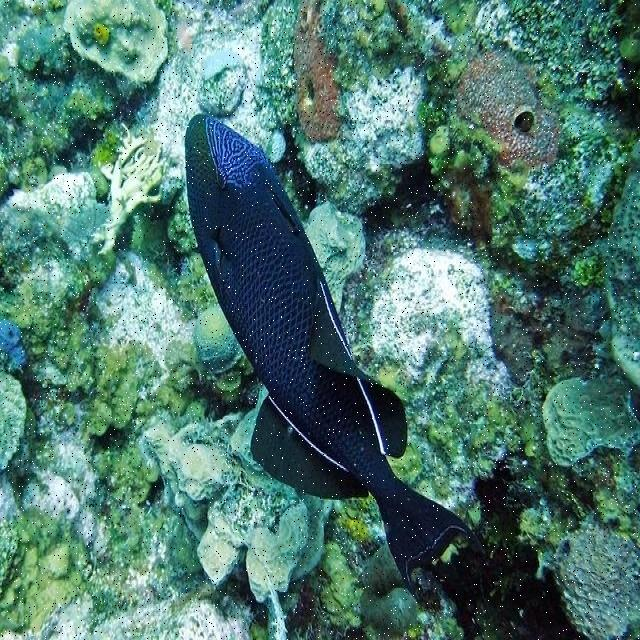fish: (185, 112, 485, 597)
